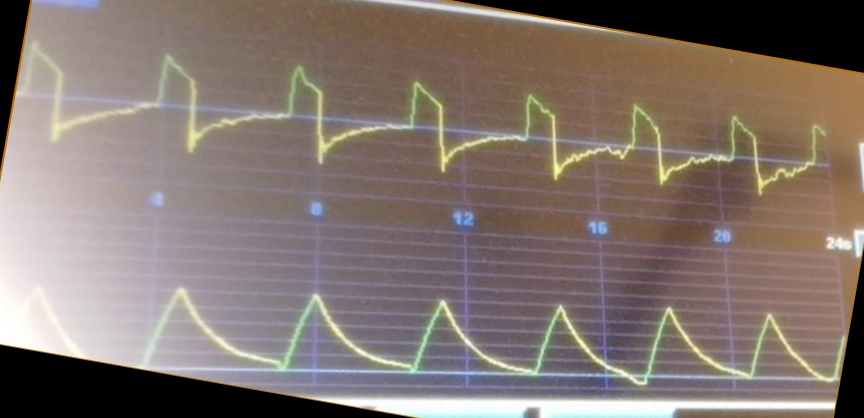Accumulation Flow: (21, 47, 783, 195)
Volume: (29, 280, 835, 386)
